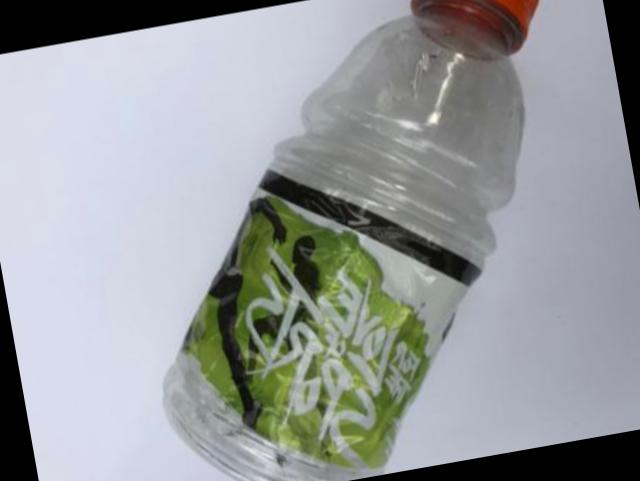plastic: (161, 0, 535, 481)
